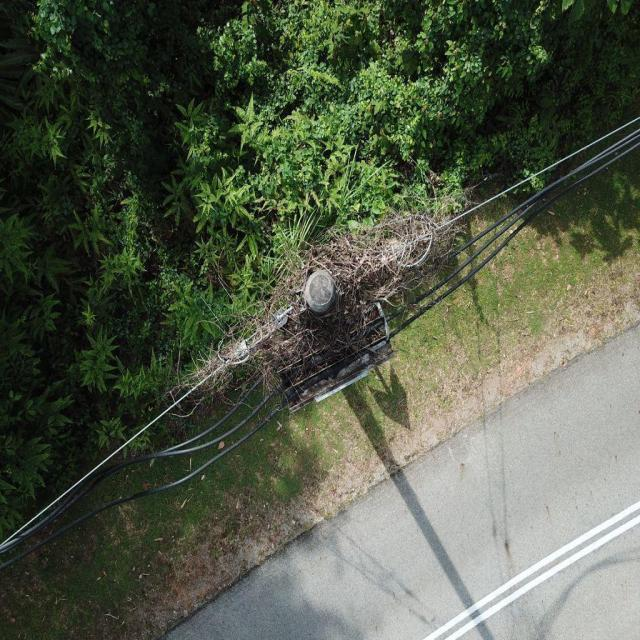critical vegetation: (186, 185, 460, 400)
